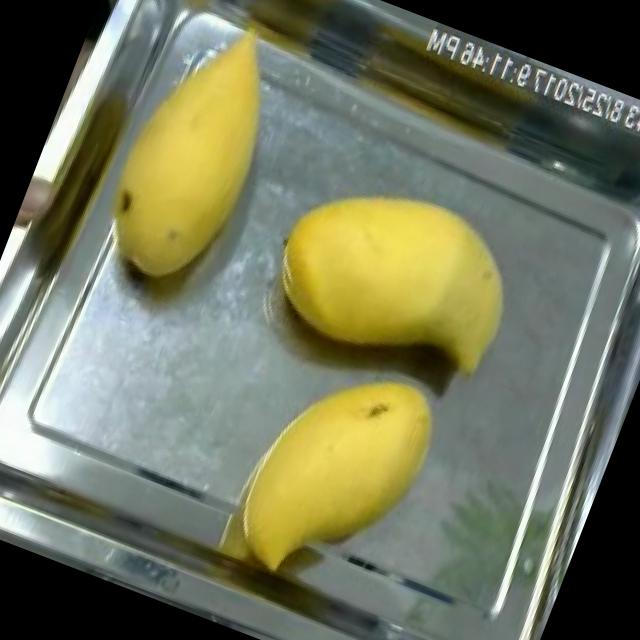fruit: (243, 142, 552, 412), (68, 0, 319, 317), (205, 330, 464, 626)
